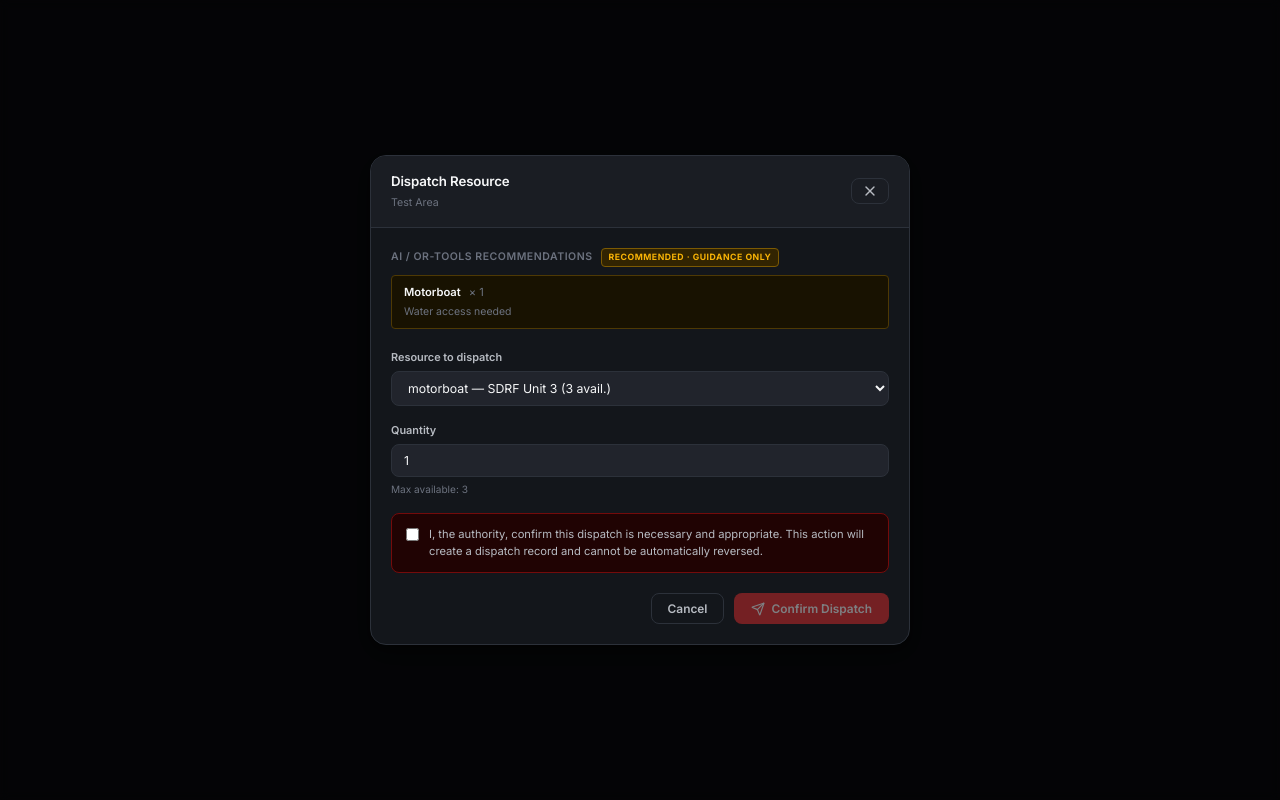
Test: DispatchModal — human-in-the-loop enforcement › enables Confirm button only after checkbox is checked
Expected: the button with id "dispatch-confirm-btn" is disabled, [734,593,889,624]
Click the checkbox with id "dispatch-confirm-checkbox": (412, 535) [406,528,419,541]
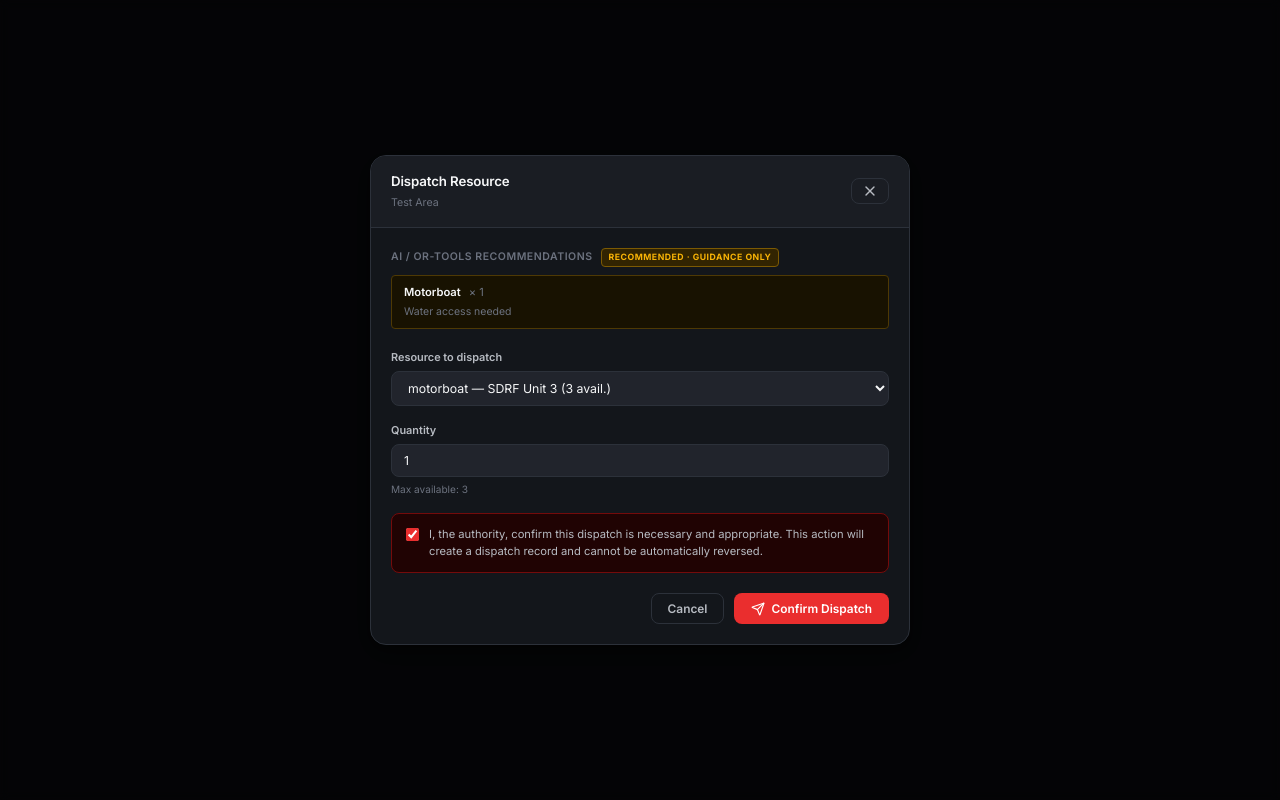
Expected: the button with id "dispatch-confirm-btn" is enabled, [734,593,889,624]
